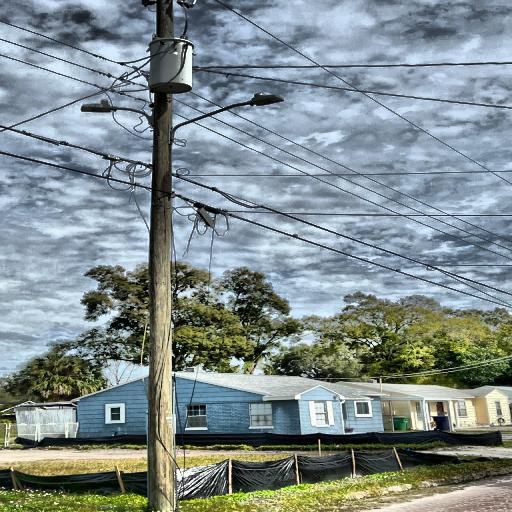pole: (139, 0, 186, 512)
street light: (167, 92, 284, 146), (78, 101, 156, 129)
transformer: (148, 36, 196, 94)
